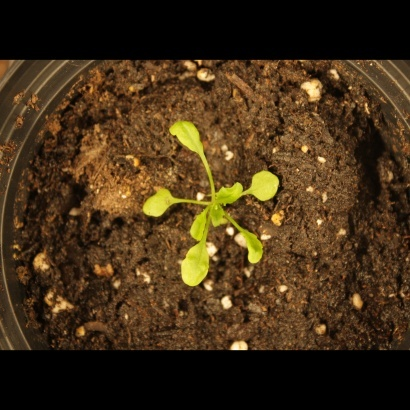leaf: (167, 112, 212, 162), (180, 239, 215, 292), (236, 223, 271, 268), (136, 186, 177, 223), (249, 166, 285, 206), (186, 201, 212, 239), (213, 177, 244, 207), (209, 206, 232, 229)
